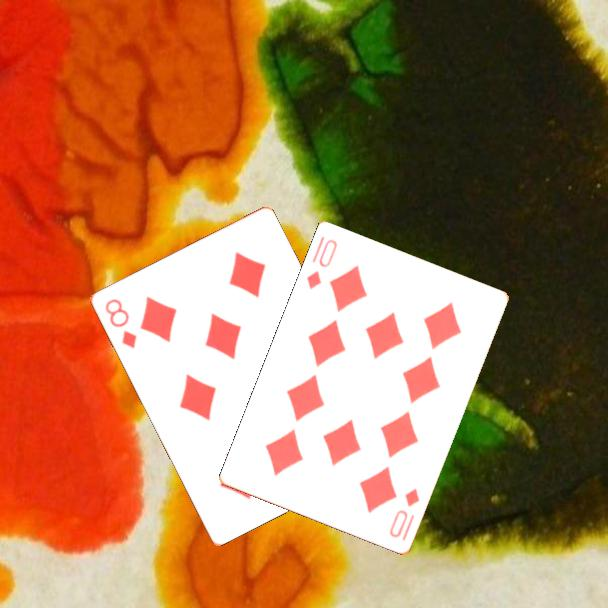d08: (101, 295, 139, 351)
d10: (303, 233, 341, 293), (386, 485, 423, 541)
